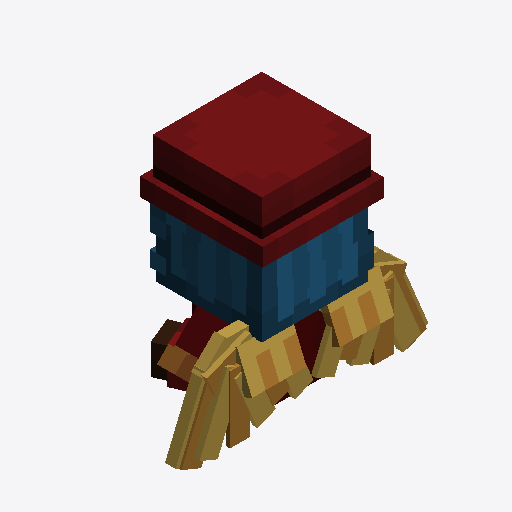
A Minecraft block model of 38 cuboids, rendered isometrically (azimuth 45°, elevation 35.3°) with the resource pack's own textures.
Visible parts, largest first — head (×2), head layer 2, element 5, element 9, element 21, element 10, element 15, left_arm, element 11, element 22, element 7, element 26 (+9 smaller).
Part boxes in pixels (left/top/right/bottom): head (×2): left=153, top=72, right=370, bottom=341; head layer 2: left=150, top=203, right=373, bottom=331; element 5: left=140, top=169, right=383, bottom=267; element 9: left=235, top=324, right=306, bottom=397; element 21: left=321, top=265, right=393, bottom=346; element 10: left=194, top=365, right=234, bottom=460; element 15: left=165, top=365, right=204, bottom=468; left_arm: left=174, top=306, right=229, bottom=359; element 11: left=226, top=363, right=249, bottom=447; element 22: left=383, top=270, right=420, bottom=351; element 7: left=179, top=383, right=211, bottom=469; element 26: left=311, top=324, right=343, bottom=377.
Bounding box in the file's own units: 16.69 × 14.28 × 8.88.